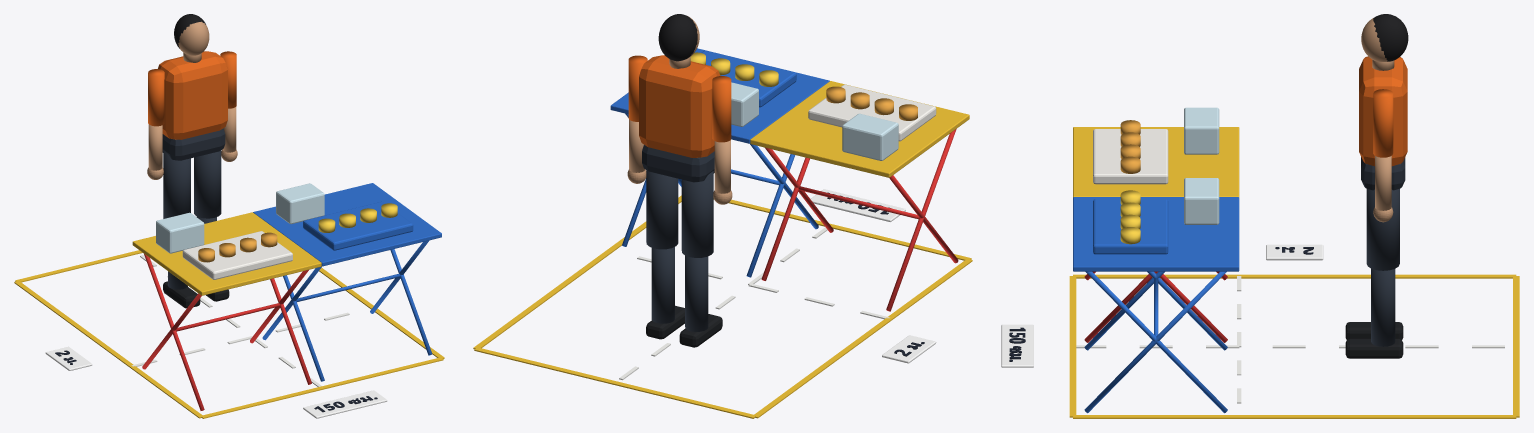
File: lot-food-2.glb
3 views of the same model, side by side, from view 1: azimuth 30°, elevation 25°; view 2: azimuth 150°, elevation 25°; view 3: azimuth 270°, elevation 25° (orthographic). The views are drawn at different scales.
Visible parts, largest first — view 1: Cube.025, Cube, Cube.003, Cube.004, Cube.001, Cylinder.023, Cylinder.019, Cube.005, Cube.002, Cube.024, Cube.007, Cube.006 (+20 smaller); view 2: Cube.025, Cube, Cylinder.019, Cube.001, Cylinder.023, Cube.003, Cube.002, Cylinder.022, Cylinder.018, Cube.024, Cube.007, Cube.004 (+20 smaller); view 3: Cube.003, Cube, Cube.025, Cube.001, Cube.004, Cylinder.023, Cylinder.022, Cube.007, Cube.008, Cube.002, Cube.005, Cylinder.024 (+16 smaller).
Boxes of the visible parts, box(x1,y1,x2,y2) form: Cube.025: box(158, 51, 227, 139); Cube: box(132, 212, 321, 295); Cube.003: box(253, 183, 441, 266); Cube.004: box(303, 201, 413, 250); Cube.001: box(182, 231, 292, 279); Cylinder.023: box(194, 150, 221, 218); Cylinder.019: box(163, 151, 190, 218); Cube.005: box(276, 183, 324, 224); Cube.002: box(156, 212, 204, 253); Cube.024: box(162, 128, 225, 160); Cube.007: box(14, 281, 202, 418); Cube.006: box(201, 358, 443, 418); Cube.025: box(639, 55, 720, 157); Cube: box(750, 81, 969, 177); Cylinder.019: box(681, 171, 713, 257); Cube.001: box(808, 84, 936, 141); Cylinder.023: box(646, 170, 678, 249); Cube.003: box(610, 48, 829, 143); Cube.002: box(842, 113, 898, 160); Cylinder.022: box(651, 247, 674, 323); Cylinder.018: box(685, 255, 708, 331); Cube.024: box(642, 145, 714, 182); Cube.007: box(753, 258, 972, 418); Cube.004: box(701, 50, 796, 107); Cube.003: box(1073, 197, 1239, 271); Cube: box(1073, 127, 1239, 197); Cube.025: box(1359, 56, 1407, 166); Cube.001: box(1093, 129, 1168, 184); Cube.004: box(1093, 199, 1168, 254); Cylinder.023: box(1366, 188, 1399, 270); Cylinder.022: box(1371, 268, 1395, 346); Cube.007: box(1073, 274, 1516, 278); Cube.008: box(1073, 415, 1516, 418); Cube.002: box(1184, 107, 1219, 154); Cube.005: box(1184, 178, 1219, 224); Cylinder.024: box(1373, 89, 1393, 157).
Size of the model in its own units: 1.84 by 1.65 by 2.34.
